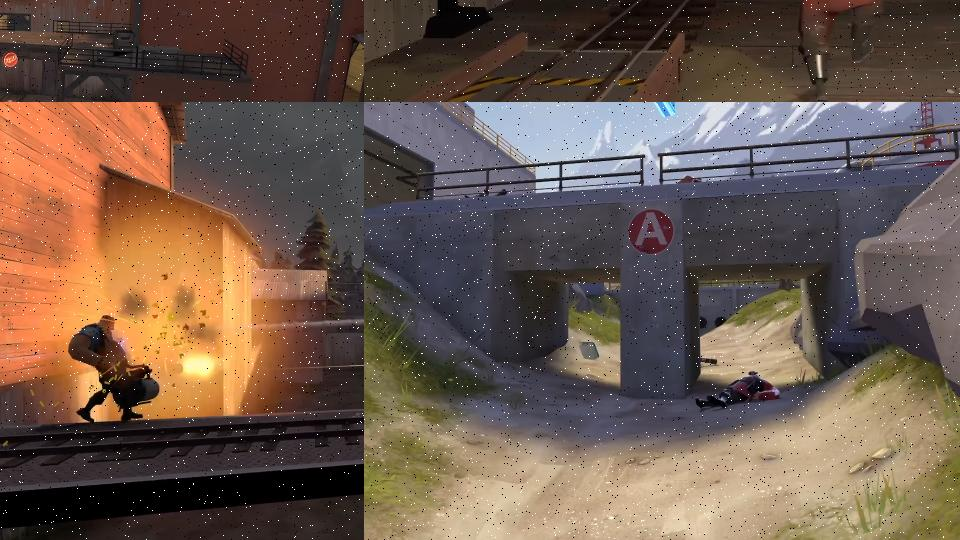Enemy: (782, 0, 889, 102), (65, 313, 162, 423), (696, 371, 780, 408)
